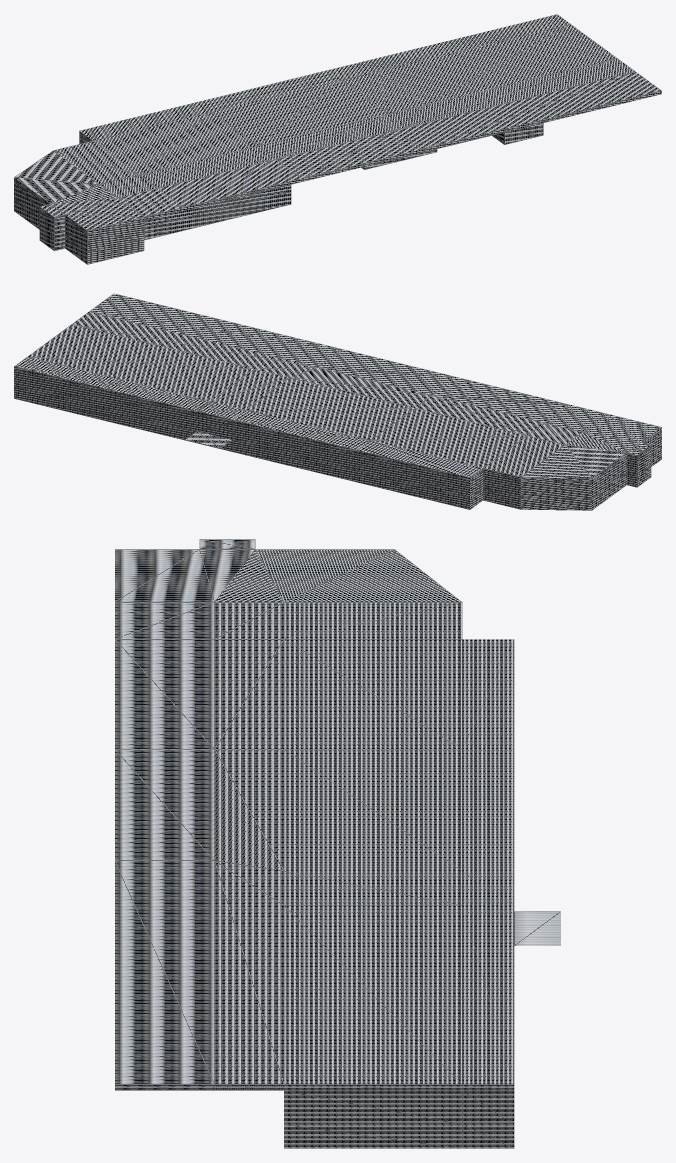
File: BigGalpao.gltf
3 views of the same model, one above another, from view 1: azimuth 30°, elevation 25°; view 2: azimuth 150°, elevation 25°; view 3: azimuth 270°, elevation 25° (orthographic). The views are drawn at different scales.
Parts seen in each view (by area): view 1: node1; view 2: node1; view 3: node1.
Part boxes in pixels (bbox=[...]): node1: bbox=[14, 14, 661, 264]; node1: bbox=[14, 293, 661, 510]; node1: bbox=[115, 539, 560, 1148].
Bounding box in the file's own units: 163 × 8.99 × 56.38.
